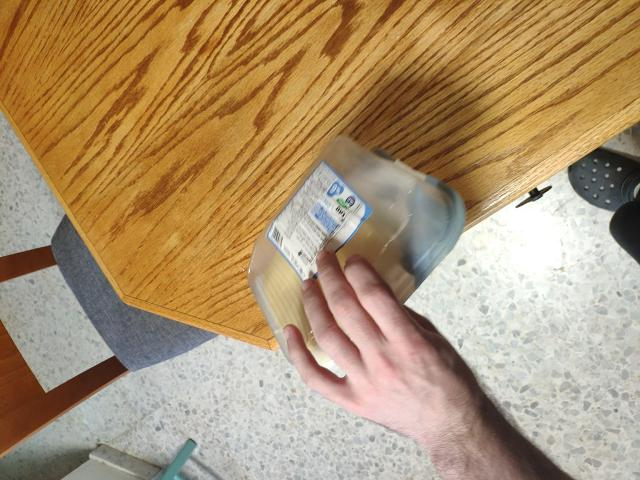cheese: (241, 126, 461, 395)
